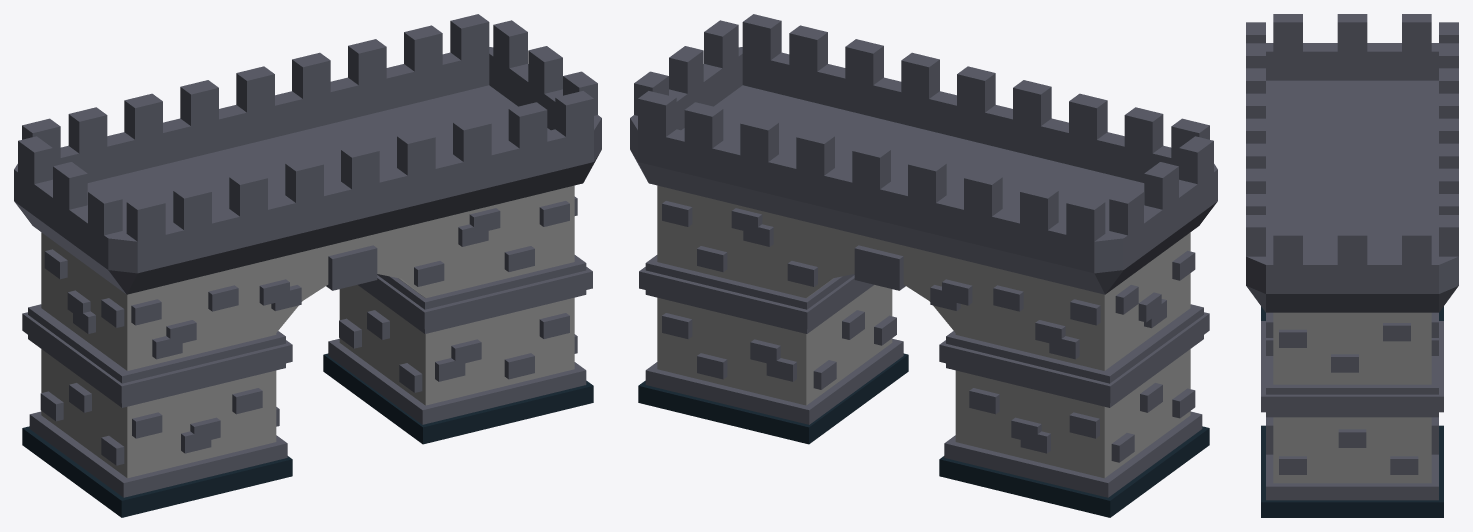
The model's file is gate 1.fbx.
3 renders of one model, left to right at view 1: azimuth 30°, elevation 25°; view 2: azimuth 150°, elevation 25°; view 3: azimuth 270°, elevation 25°, orthographic. The views are drawn at different scales.
Visible parts, largest first — view 1: gate; view 2: gate; view 3: gate.
Boxes of the visible parts, bbox=[...] form: gate: bbox=[14, 14, 601, 517]; gate: bbox=[630, 14, 1217, 517]; gate: bbox=[1246, 14, 1458, 517].
Size of the model in its own units: 2179 by 1316 by 884.
